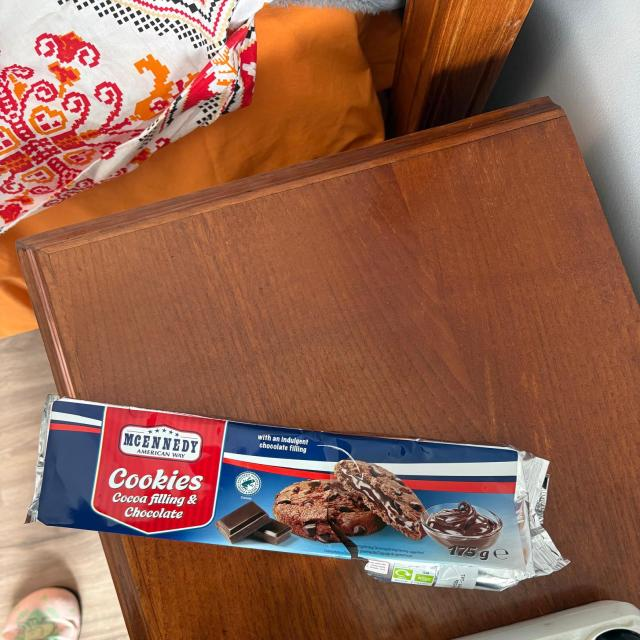damaged_package: (34, 396, 567, 595)
